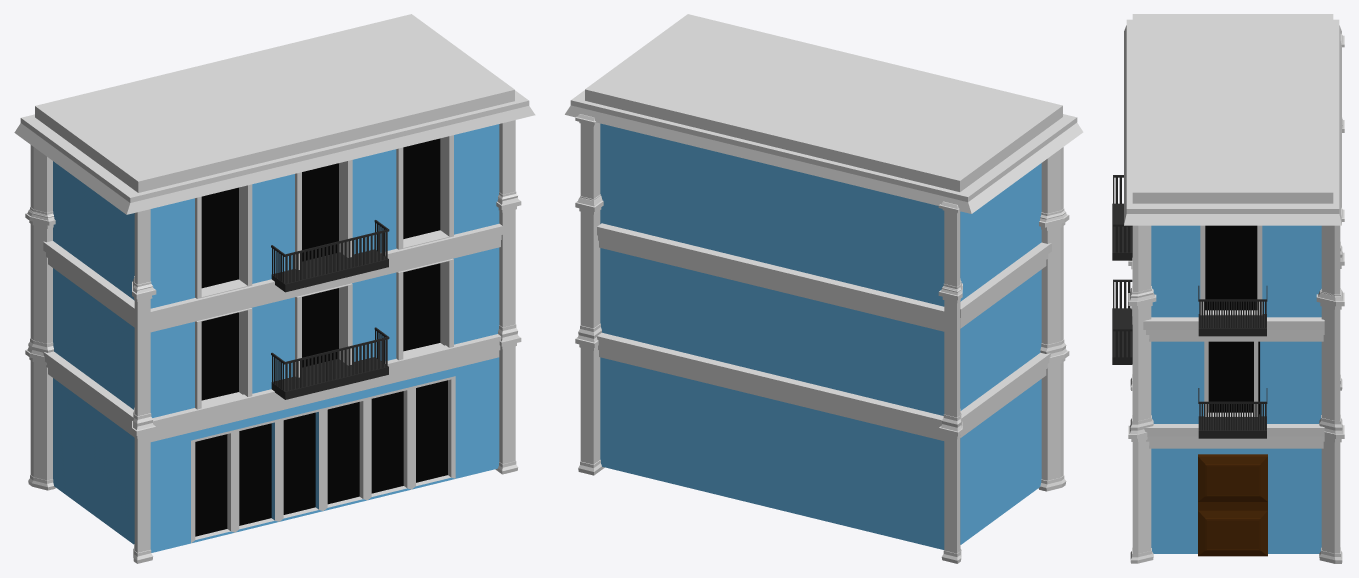
File: Building fin.fbx
3 views of the same model, side by side, from view 1: azimuth 30°, elevation 25°; view 2: azimuth 150°, elevation 25°; view 3: azimuth 270°, elevation 25° (orthographic). The views are drawn at different scales.
Parts seen in each view (by area): view 1: Wall Deco, House, Glass, Window, Pillar, Balcony; view 2: House, Wall Deco, Pillar; view 3: Wall Deco, House, Pillar, Balcony, Glass, Door, Window.
Part boxes in pixels (box(x1,y1,x2,y2)): Wall Deco: box(14, 14, 535, 441); House: box(53, 124, 499, 552); Glass: box(195, 138, 447, 536); Window: box(191, 135, 455, 543); Pillar: box(25, 120, 521, 563); Balcony: box(271, 220, 389, 399); House: box(600, 123, 1041, 549); Wall Deco: box(565, 14, 1083, 440); Pillar: box(575, 114, 1069, 563); Wall Deco: box(1124, 14, 1341, 448); House: box(1151, 225, 1321, 553); Pillar: box(1128, 33, 1344, 563); Balcony: box(1112, 175, 1267, 438); Glass: box(1205, 225, 1259, 414); Door: box(1198, 454, 1267, 556); Window: box(1200, 225, 1262, 416).
Bounding box in the file's own units: 1592 × 1410 × 803.
